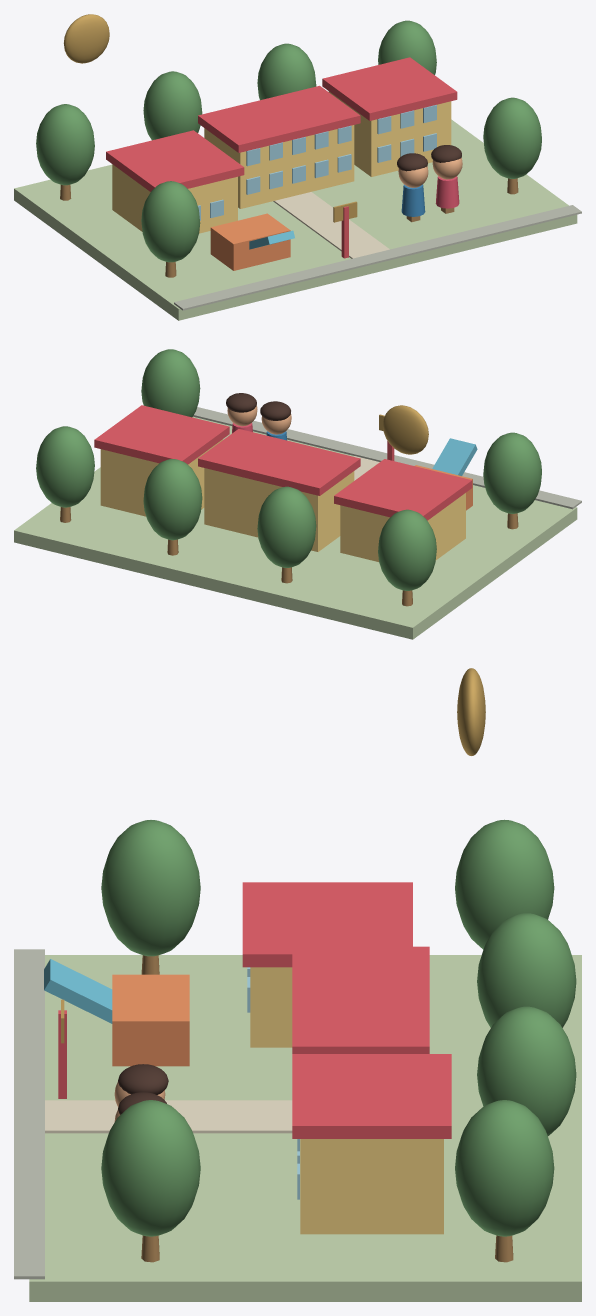
File: campus.glb
The picture shows the model from 3 angles, top to bottom: view 1: azimuth 30°, elevation 25°; view 2: azimuth 150°, elevation 25°; view 3: azimuth 270°, elevation 25°; orthographic projection. The views are drawn at different scales.
Size of the model in its own units: 7 by 3.35 by 5.14.
